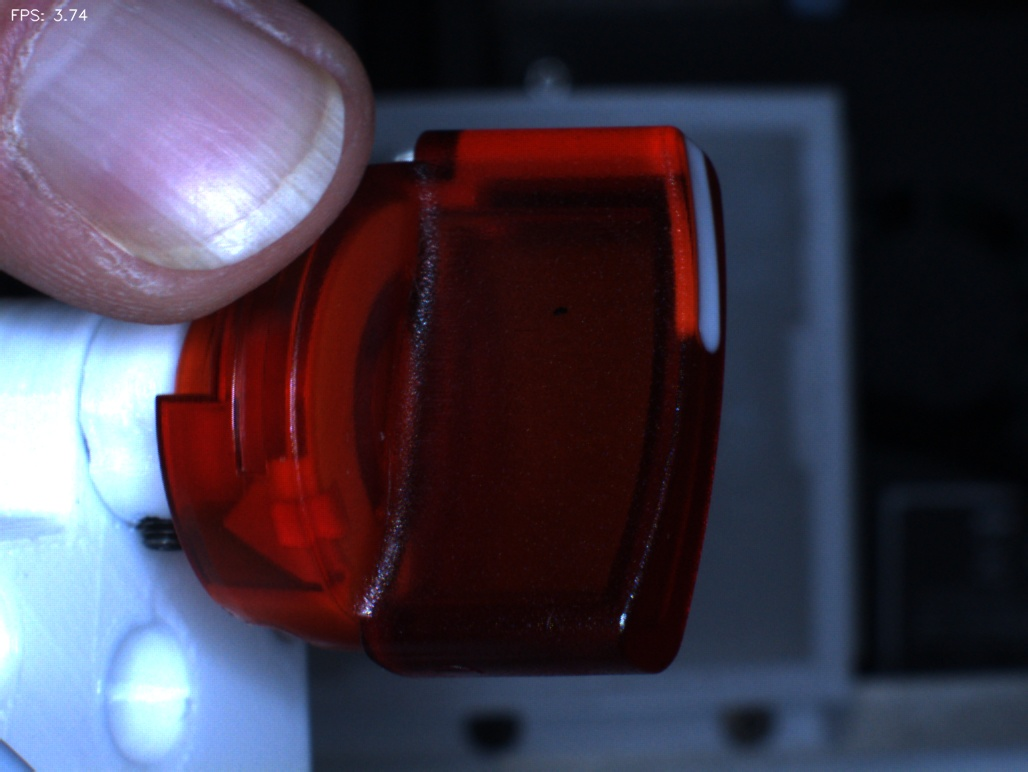PointNoir: (518, 261, 611, 366)
